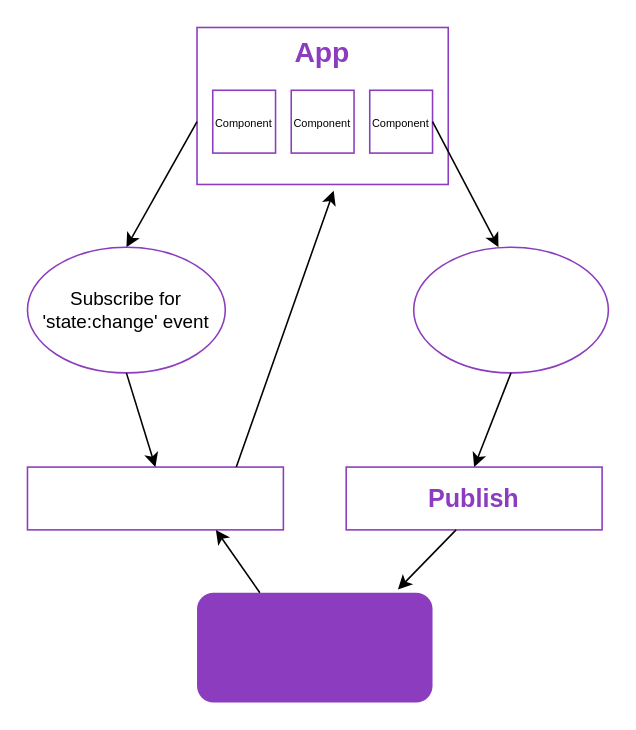
The diagram is 636 pixels wide and 730 high, and some of its shapes have lost their labels. Here are the shapes that lost their labels. From the top down, the centre of each, then its label:
(510,309): Call this.setState
(154,498): Subscribe
(314,647): State
